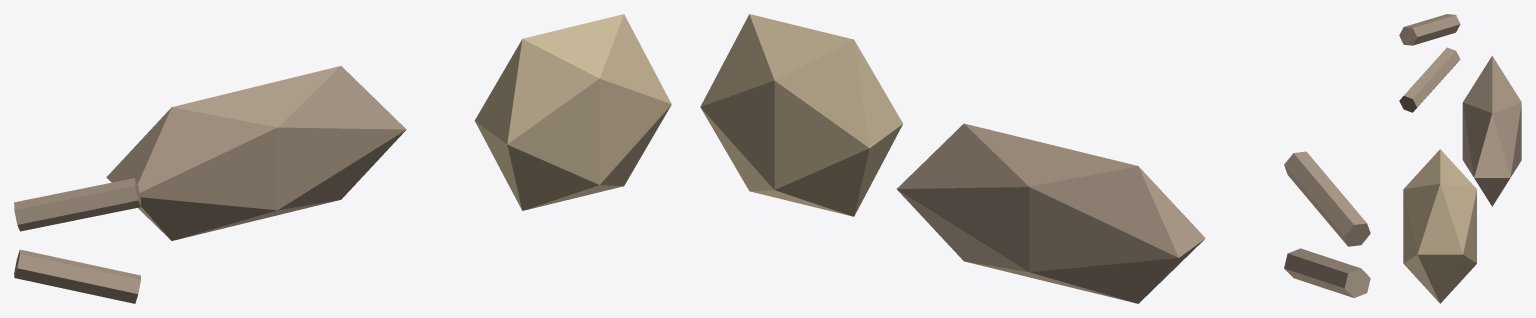
Rendered from snail.glb.
The picture shows the model from 3 angles, left to right: view 1: azimuth 30°, elevation 25°; view 2: azimuth 150°, elevation 25°; view 3: azimuth 270°, elevation 25°; orthographic projection. The views are drawn at different scales.
Parts seen in each view (by area): view 1: world; view 2: world; view 3: world.
Boxes of the visible parts, x1,y1,x2,y2 form: world: (14, 14, 671, 303); world: (700, 14, 1370, 303); world: (1399, 14, 1521, 303).
Bounding box in the file's own units: 1.48 × 0.3828 × 0.3535.
